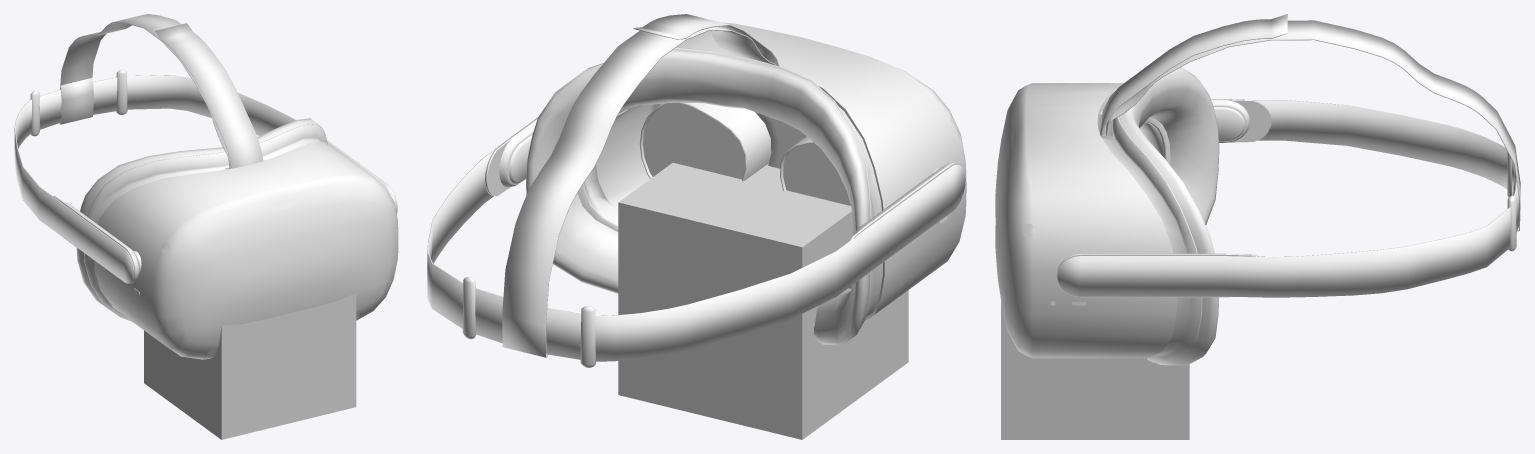
Rendered from oculus2.glb.
The picture shows the model from 3 angles, left to right: view 1: azimuth 30°, elevation 25°; view 2: azimuth 150°, elevation 25°; view 3: azimuth 270°, elevation 25°; orthographic projection. The views are drawn at different scales.
Visible parts, largest first — view 1: Quest2_lowpoly, Cube; view 2: Quest2_lowpoly, Cube; view 3: Quest2_lowpoly, Cube.
Boxes of the visible parts, left/top/right/bottom form: Quest2_lowpoly: left=14, top=14, right=398, bottom=359; Cube: left=144, top=293, right=356, bottom=439; Quest2_lowpoly: left=427, top=14, right=966, bottom=367; Cube: left=618, top=162, right=908, bottom=439; Quest2_lowpoly: left=995, top=14, right=1520, bottom=365; Cube: left=1001, top=189, right=1189, bottom=439.
Bounding box in the file's own units: 3.93 × 4.41 × 5.57.
Materials: 2 (1 with a texture image).
